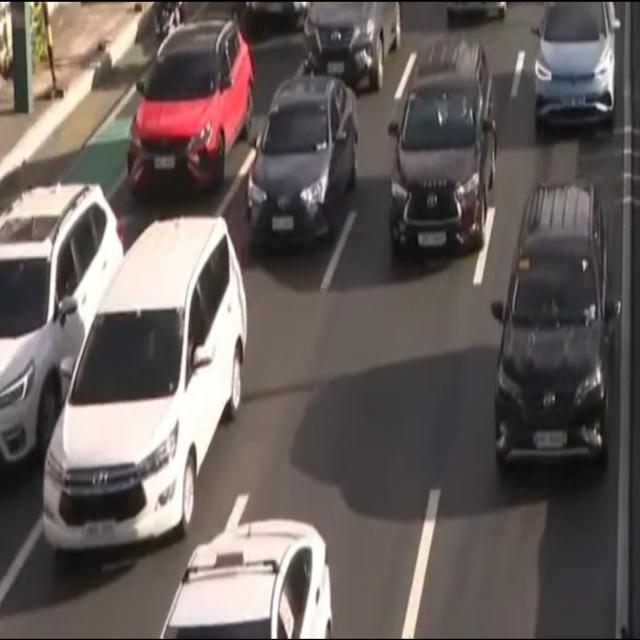SUV: (42, 216, 242, 547), (0, 182, 122, 482), (492, 184, 610, 476), (386, 38, 497, 260), (125, 21, 254, 197), (528, 0, 622, 136), (304, 0, 398, 89)
Sedan: (154, 517, 328, 640), (247, 71, 361, 248)
